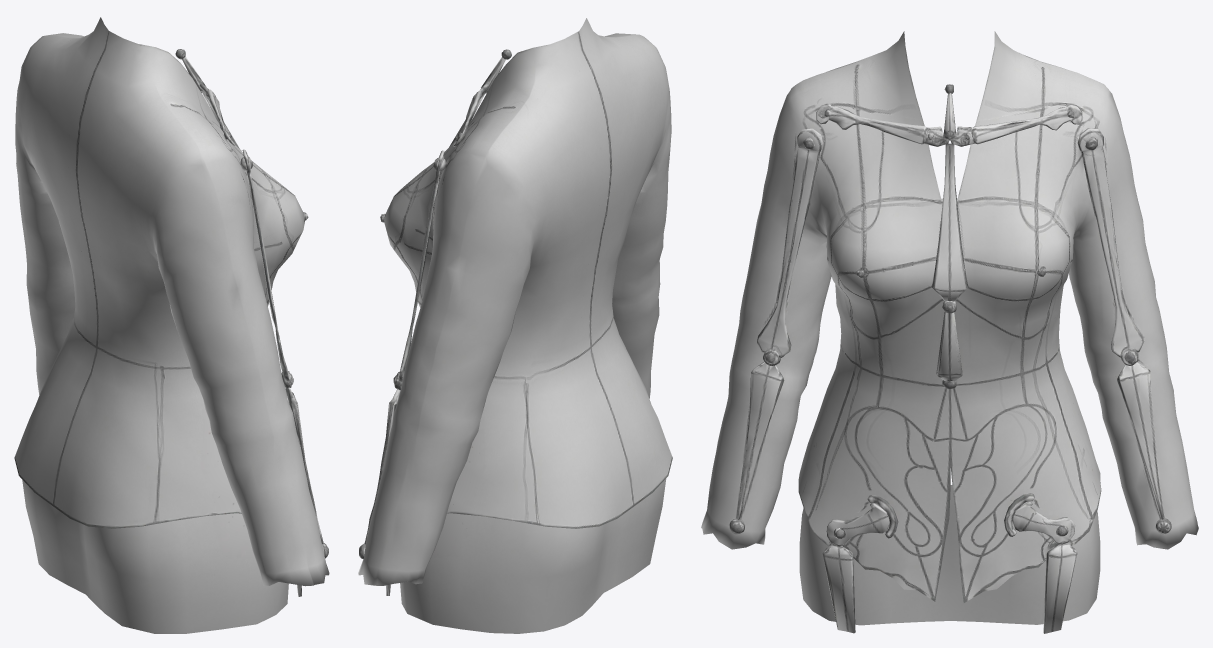
The model's file is kebaya.glb.
3 views of the same model, side by side, from view 1: azimuth 30°, elevation 25°; view 2: azimuth 150°, elevation 25°; view 3: azimuth 270°, elevation 25° (orthographic).
Parts seen in each view (by area): view 1: Mesh::generatedModels/w3SgM6A0rkzZWoiLZ37g.gltf; view 2: Mesh::generatedModels/w3SgM6A0rkzZWoiLZ37g.gltf; view 3: Mesh::generatedModels/w3SgM6A0rkzZWoiLZ37g.gltf.
Part boxes in pixels (box(x1,y1,x2,y2)): Mesh::generatedModels/w3SgM6A0rkzZWoiLZ37g.gltf: box(14, 17, 329, 633); Mesh::generatedModels/w3SgM6A0rkzZWoiLZ37g.gltf: box(358, 18, 672, 633); Mesh::generatedModels/w3SgM6A0rkzZWoiLZ37g.gltf: box(701, 31, 1198, 633).
Size of the model in its own units: 0.4004 by 0.998 by 0.8184.
Materials: 1 (1 with a texture image).
